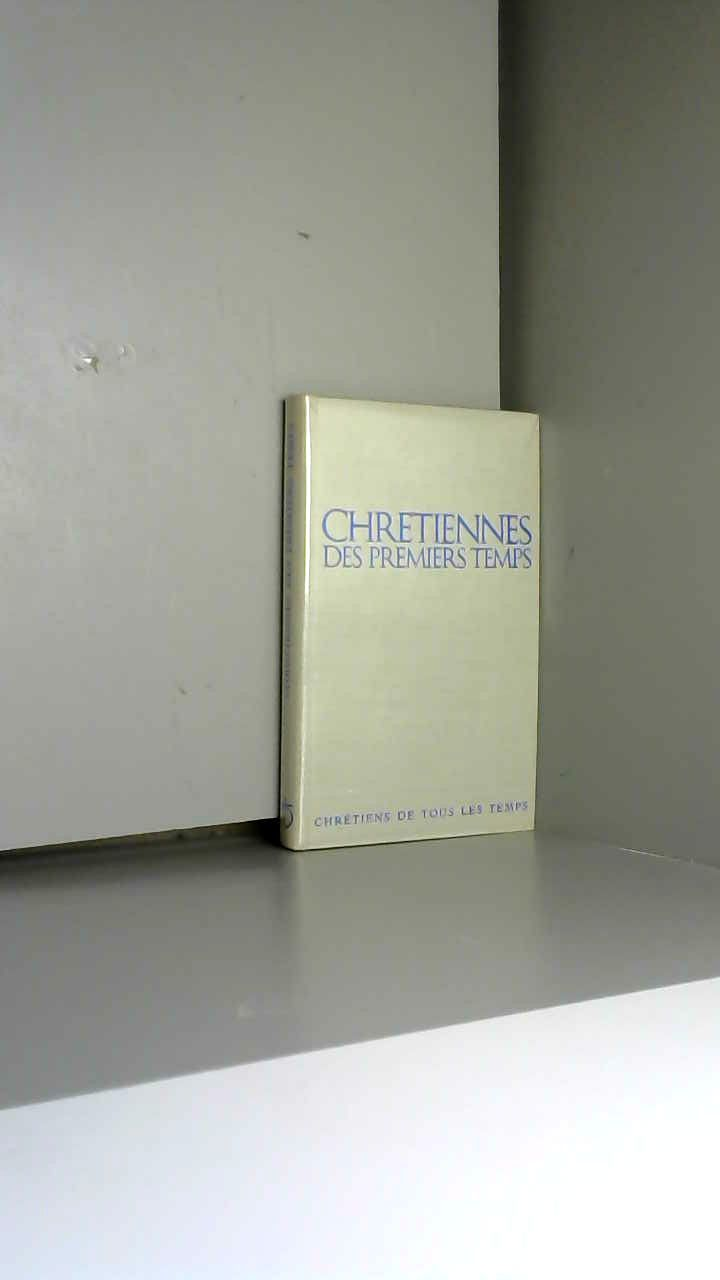book: (243, 347, 583, 892)
